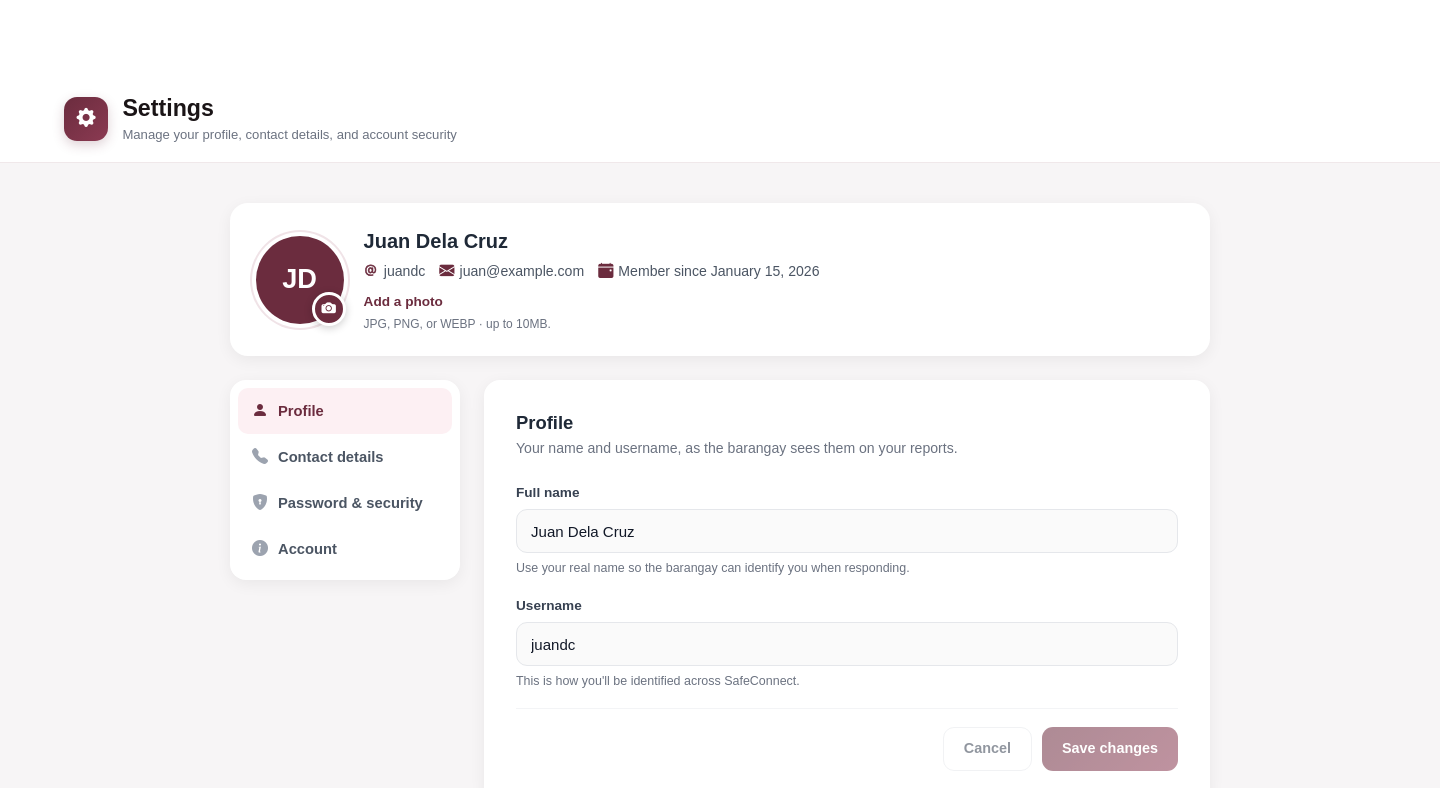
Test: Full name › saves the new name (tidied), updates the summary and the signed-in user
Replace the text in the field labelled "Full name" with "  Ma.  Clara Dela Cruz-Santos ": (847, 531) [516,509,1178,553]
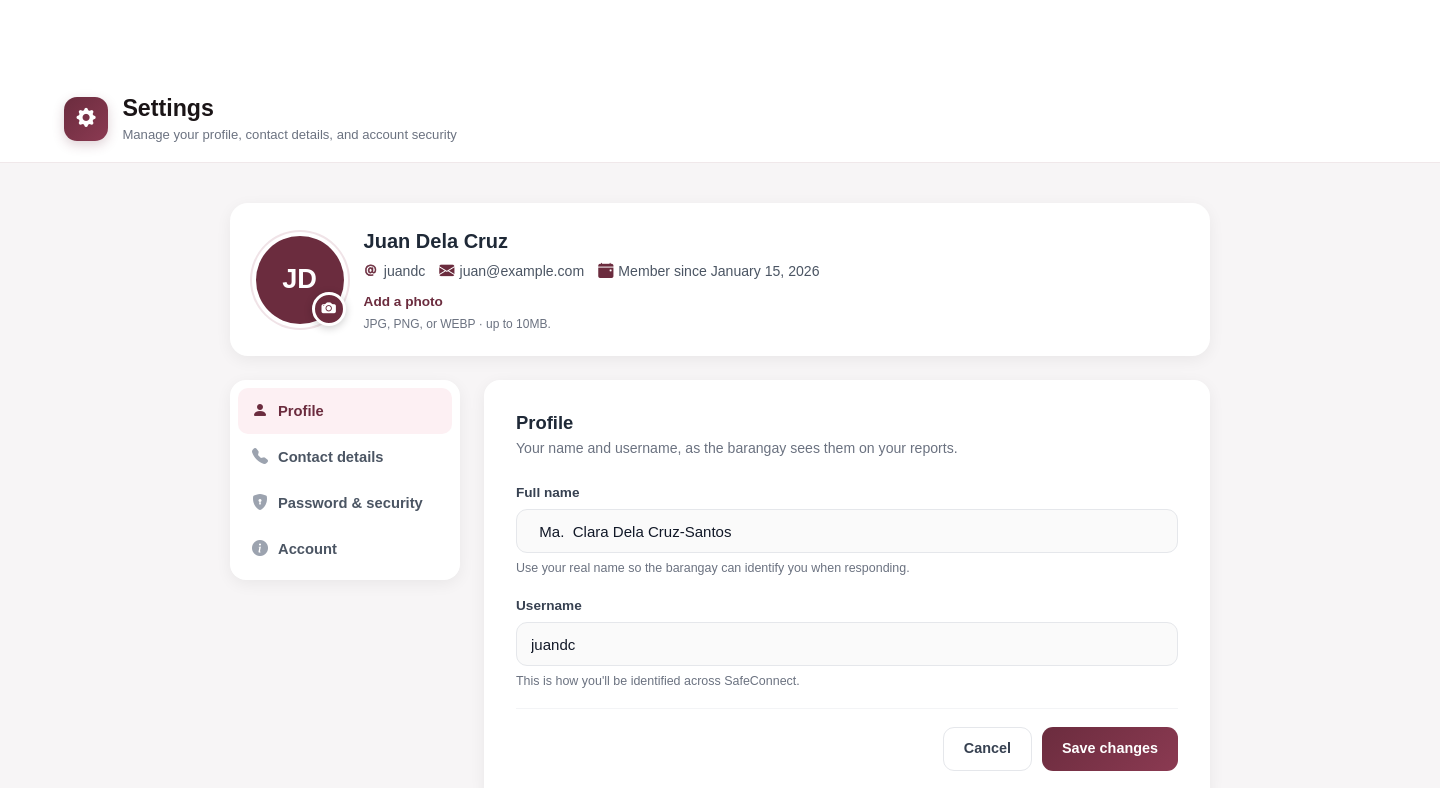
Click the button "Save changes": (1110, 749) [1042,727,1178,771]
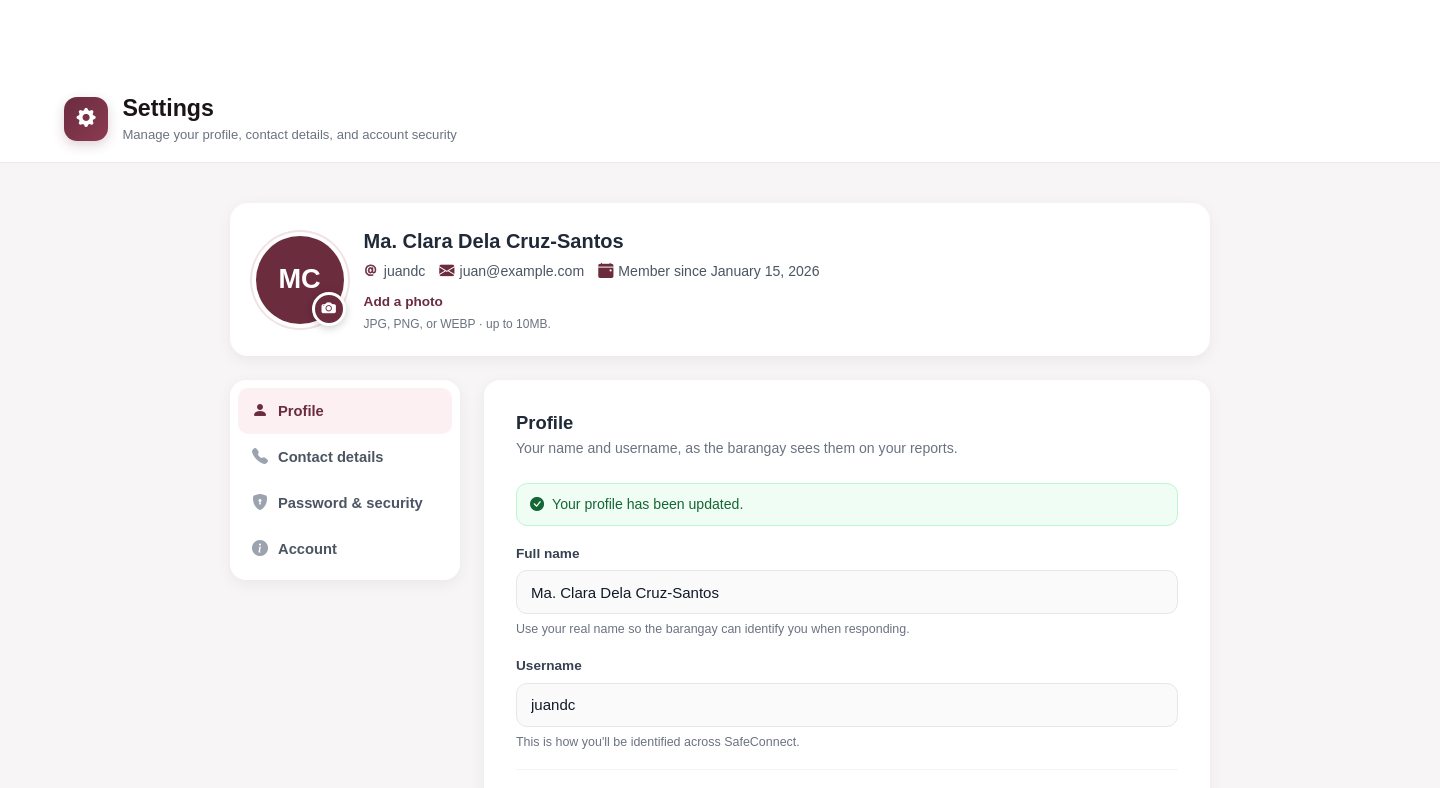
Expected: the text "Your profile has been updated." is shown, [552,494,743,515]
Expected: the text "Ma. Clara Dela Cruz-Santos" is shown, [364,230,624,252]
